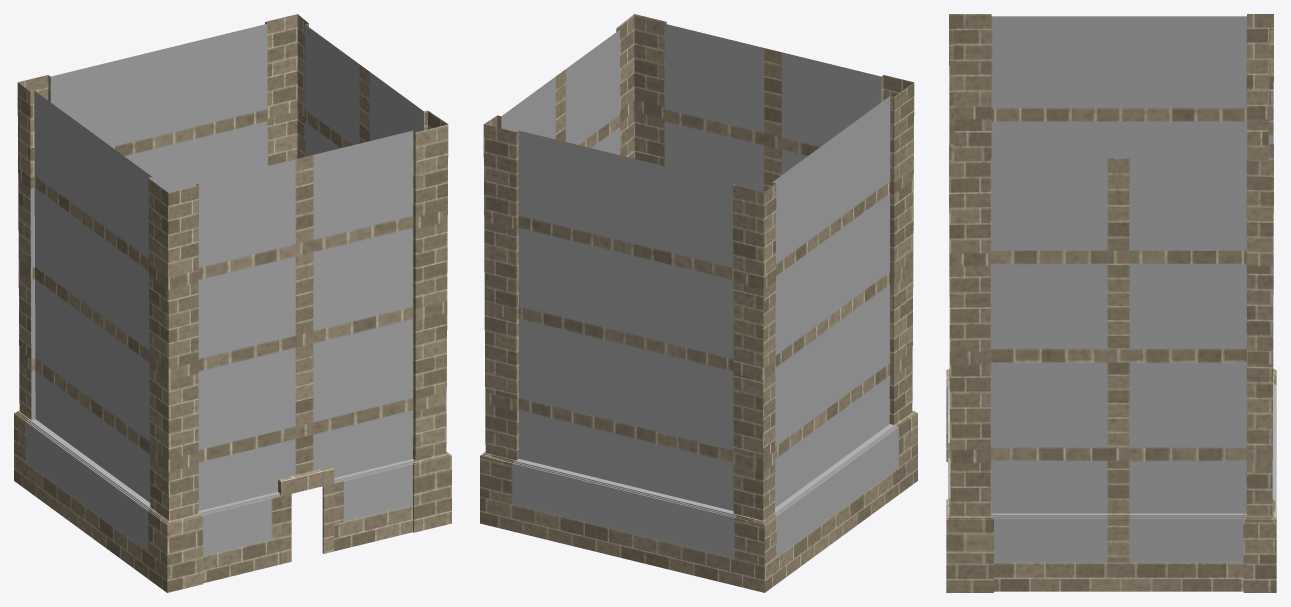
The model's file is Torre_Base.fbx.
3 renders of one model, left to right at view 1: azimuth 30°, elevation 25°; view 2: azimuth 150°, elevation 25°; view 3: azimuth 270°, elevation 25°, orthographic. The views are drawn at different scales.
Parts seen in each view (by area): view 1: torre inferior.002, torre inferior.001; view 2: torre inferior.002; view 3: torre inferior.002.
Boxes of the visible parts, left/top/right/bottom form: torre inferior.002: left=14, top=14, right=451, bottom=592; torre inferior.001: left=278, top=466, right=334, bottom=564; torre inferior.002: left=480, top=14, right=917, bottom=592; torre inferior.002: left=946, top=14, right=1276, bottom=592.
Bounding box in the file's own units: 975 × 1305 × 908.
